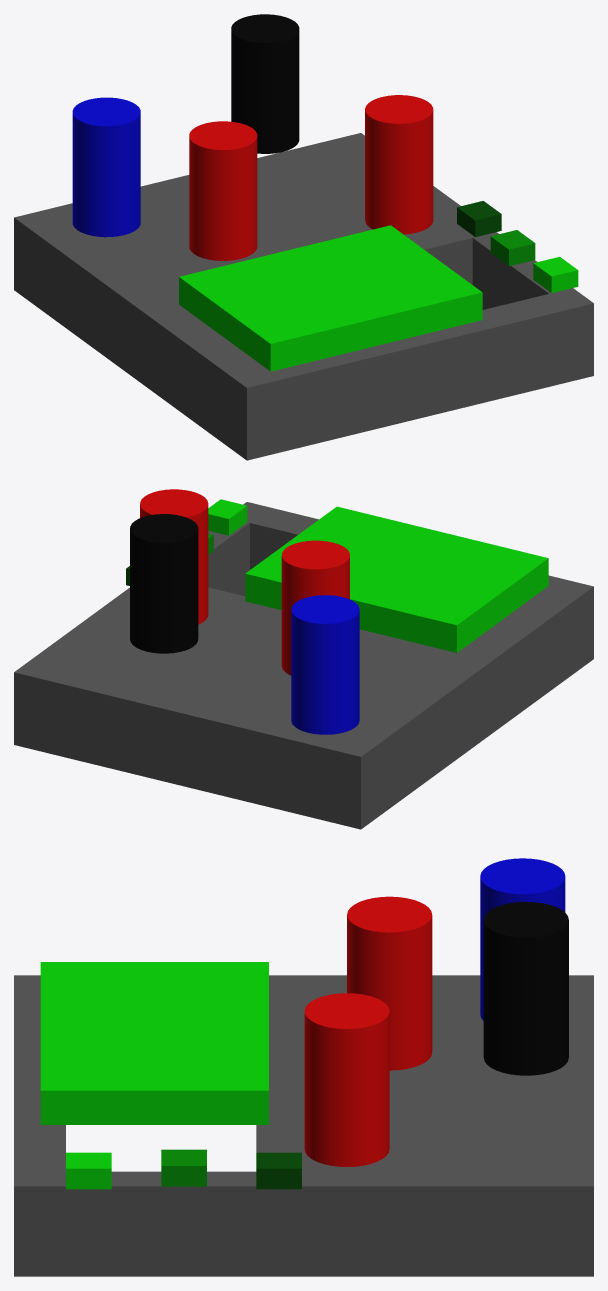
The model's file is vertexalphatest.fbx.
3 renders of one model, top to bottom at view 1: azimuth 30°, elevation 25°; view 2: azimuth 150°, elevation 25°; view 3: azimuth 270°, elevation 25°, orthographic. The views are drawn at different scales.
Visible parts, largest first — view 1: obj8; view 2: obj8; view 3: obj8.
Boxes of the visible parts, box(x1,y1,x2,y2) form: obj8: box(14, 14, 593, 460); obj8: box(14, 489, 593, 829); obj8: box(14, 858, 593, 1276).
Size of the model in its own units: 26.61 by 16.36 by 30.48.
